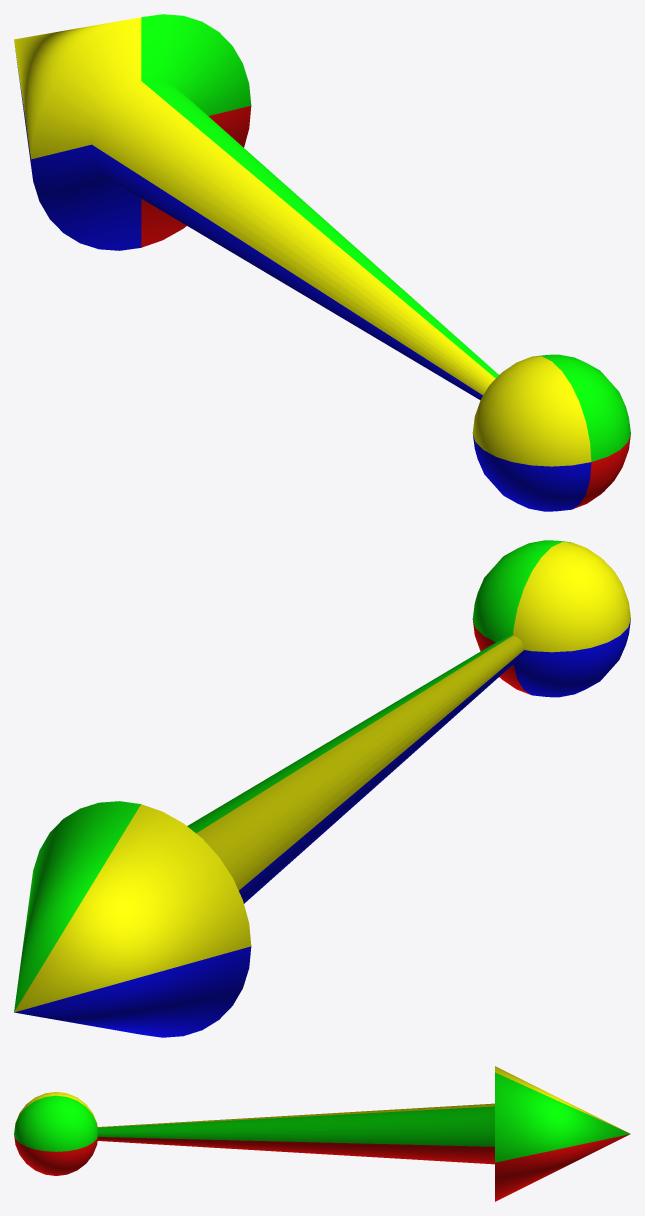
File: pointer.obj
The picture shows the model from 3 angles, top to bottom: view 1: azimuth 30°, elevation 25°; view 2: azimuth 150°, elevation 25°; view 3: azimuth 270°, elevation 25°; orthographic projection. The views are drawn at different scales.
Parts seen in each view (by area): view 1: VertArrow_Cone; view 2: VertArrow_Cone; view 3: VertArrow_Cone.
Boxes of the visible parts, x1,y1,x2,y2 form: VertArrow_Cone: [14, 14, 630, 511]; VertArrow_Cone: [14, 540, 630, 1037]; VertArrow_Cone: [14, 1066, 630, 1201].
Bounding box in the file's own units: 100 × 100 × 454.
